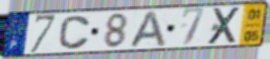7: (29, 14, 59, 55), (179, 6, 206, 49)
8: (102, 12, 130, 49)
A: (126, 10, 168, 50)
C: (57, 15, 92, 51)
X: (206, 6, 244, 47)
